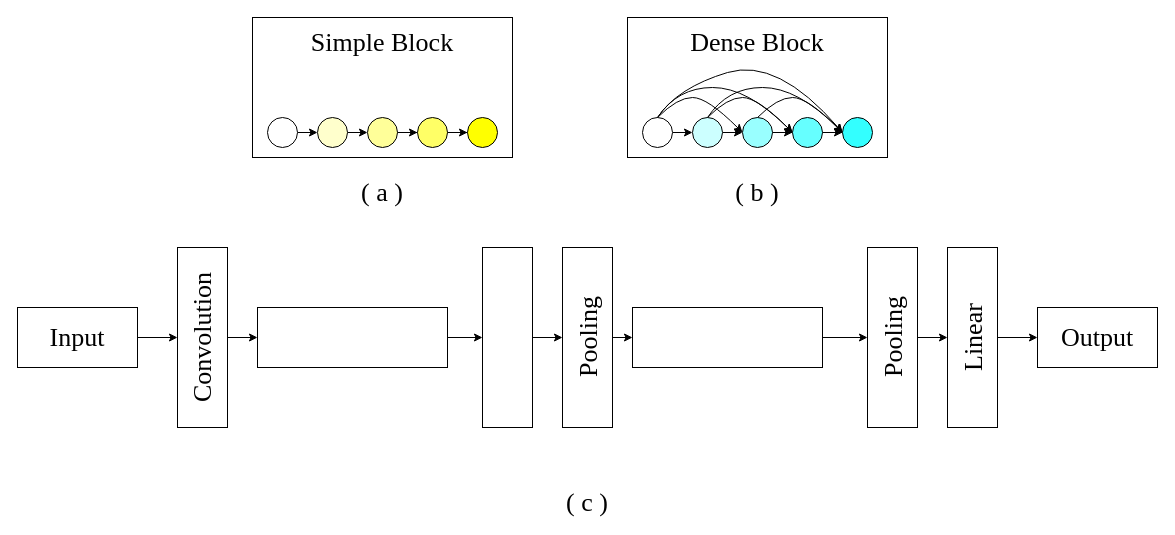
This 1175x535 diagram has some shape labels left out. Each missing label, with the centre of its shape:
Convolution: pixel 507 337
Dense Block 1: pixel 352 337
Dense Block 2: pixel 727 337
